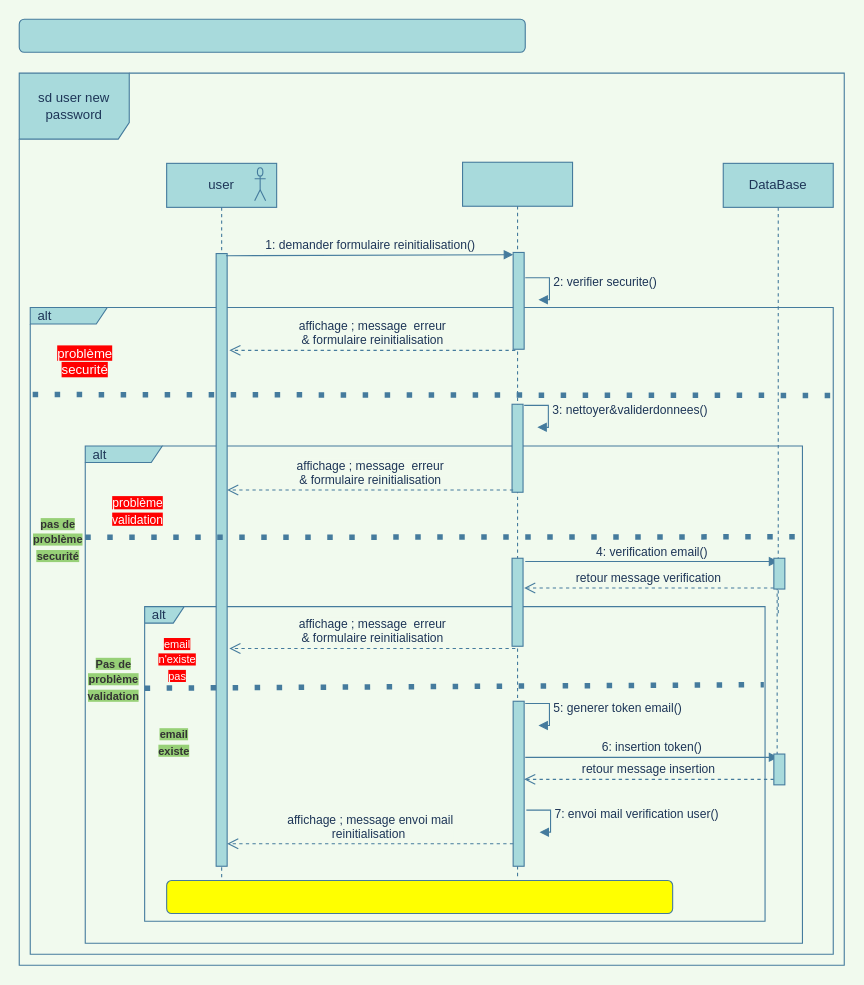
This 864x985 diagram has some shape labels left out. The shapes that lost their labels are listed below. From the top down, each one's centre as x and y in pixels, then its label:
At point (271, 35): "DIAGRAM DE SEQUENCE REINITIALISATION MOT DE PASSE UTILISATEUR".
At point (517, 519): "Systeme".
At point (419, 896): "SUITE DIAGRAM DE SEQUENCE REINITIALISATION MOT DE PASSE UTILISATEUR 2".
